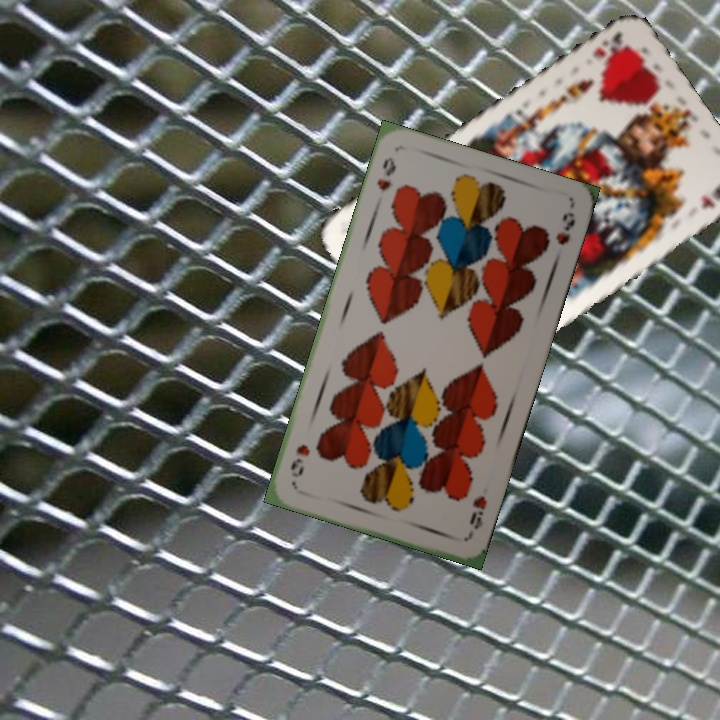H9: (464, 492, 490, 539), (373, 153, 399, 194)
HK: (589, 28, 631, 65)
